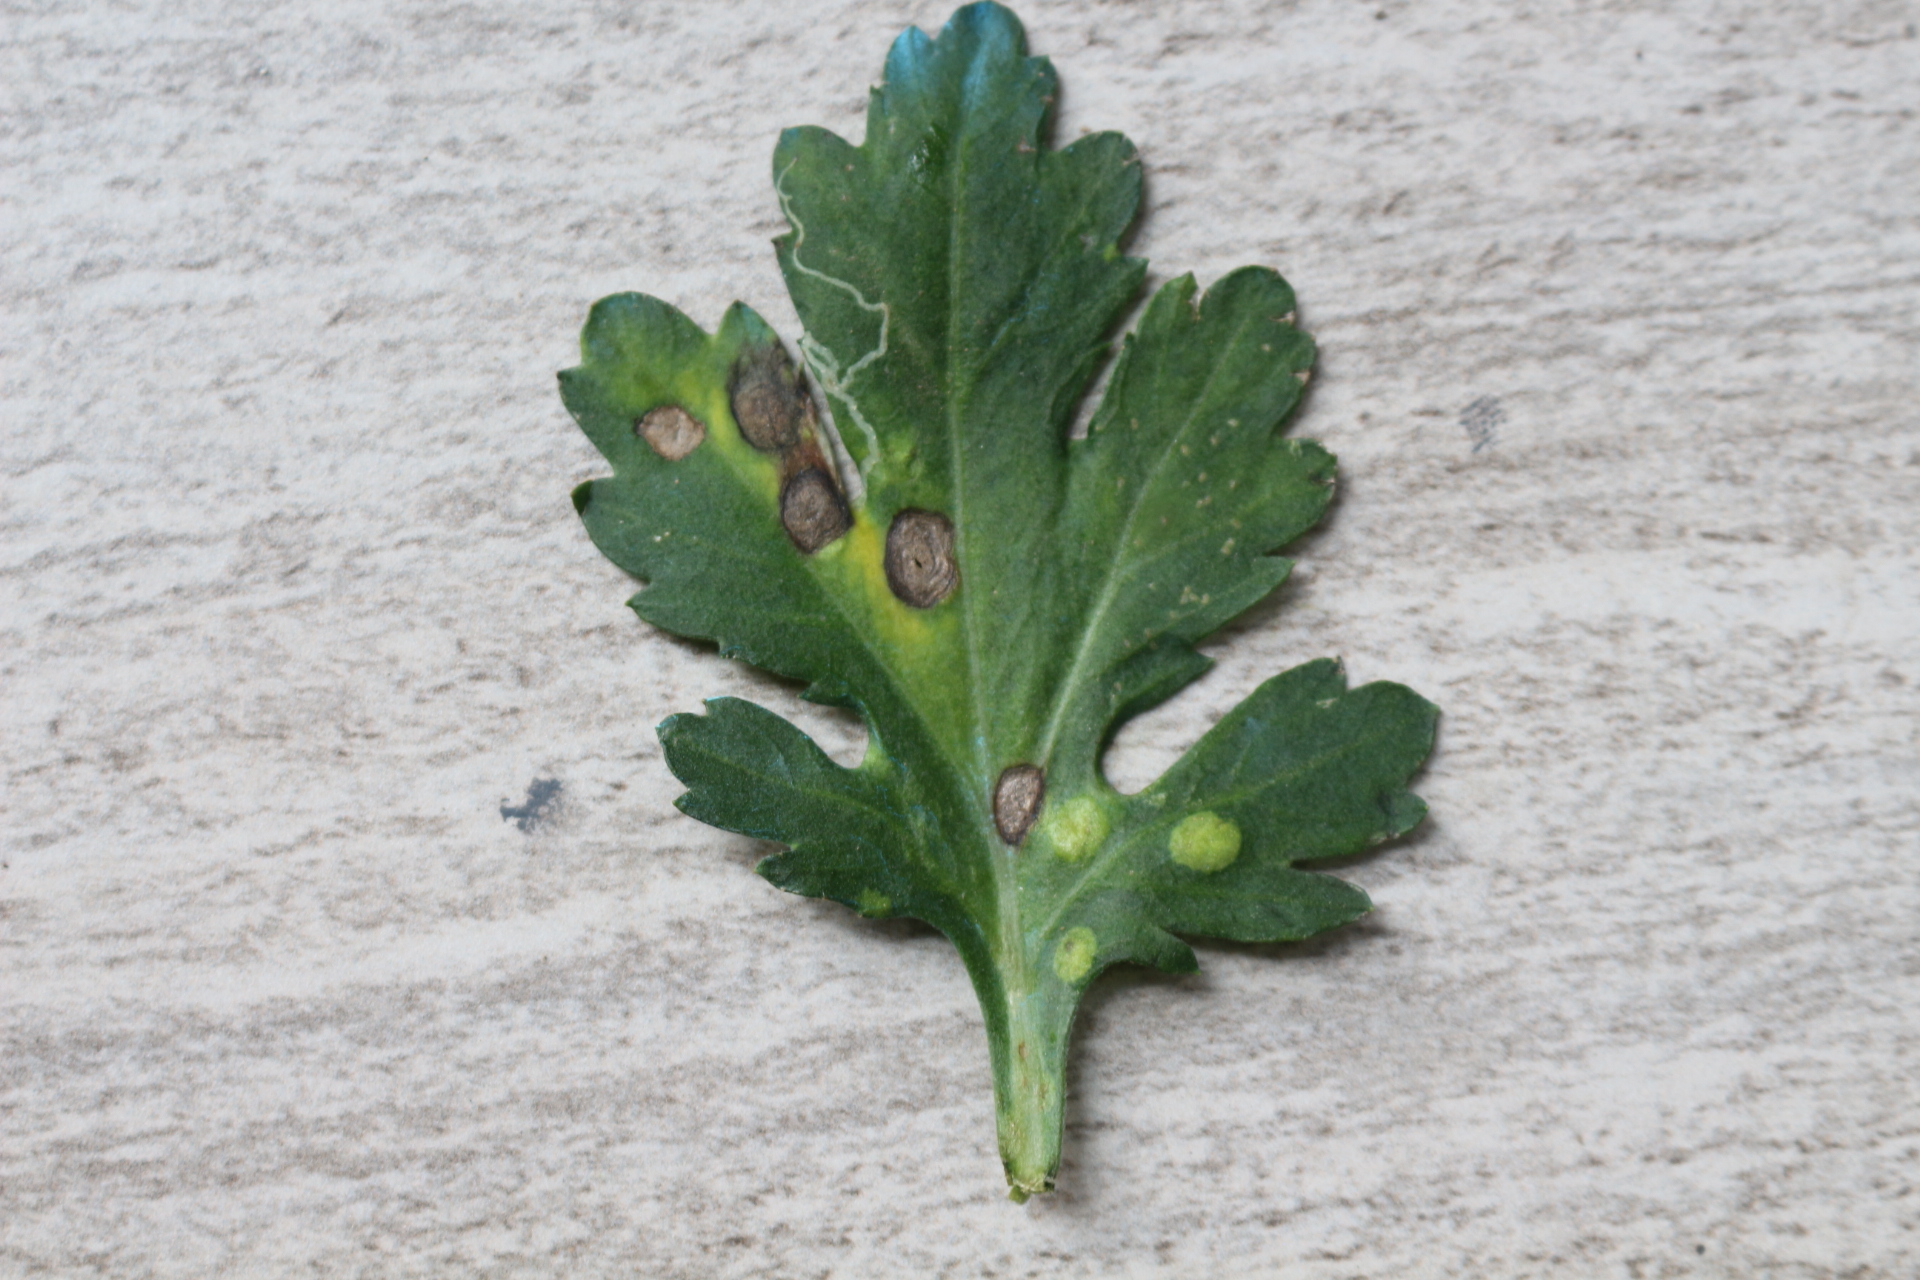namden: (726, 349, 820, 449), (773, 461, 857, 559), (879, 510, 957, 611), (984, 751, 1054, 853), (630, 394, 717, 471)
namsung: (1161, 811, 1247, 874), (1050, 794, 1113, 861), (1053, 917, 1104, 990)
